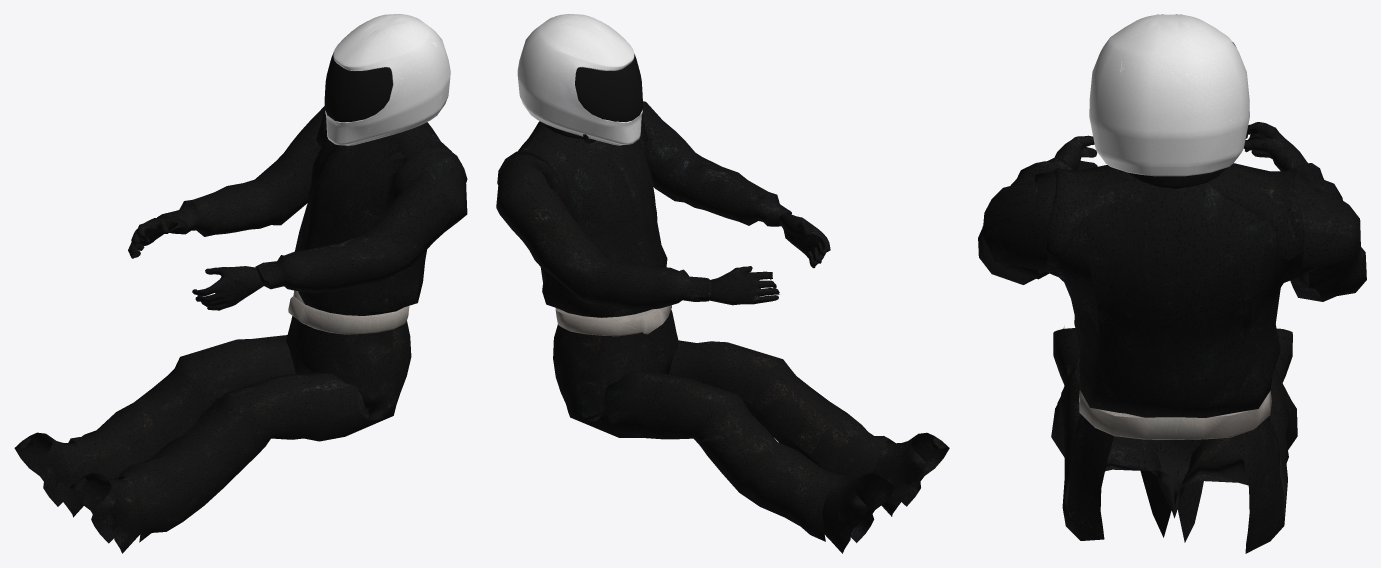
The model's file is Character.FBX.
3 views of the same model, side by side, from view 1: azimuth 30°, elevation 25°; view 2: azimuth 150°, elevation 25°; view 3: azimuth 270°, elevation 25° (orthographic). The views are drawn at different scales.
Visible parts, largest first — view 1: Object001; view 2: Object001; view 3: Object001.
Part boxes in pixels (x1,y1,x2,y2): Object001: (14, 14, 467, 553); Object001: (496, 14, 949, 553); Object001: (978, 14, 1366, 553).
Size of the model in its own units: 16.61 by 17.93 by 9.78.
